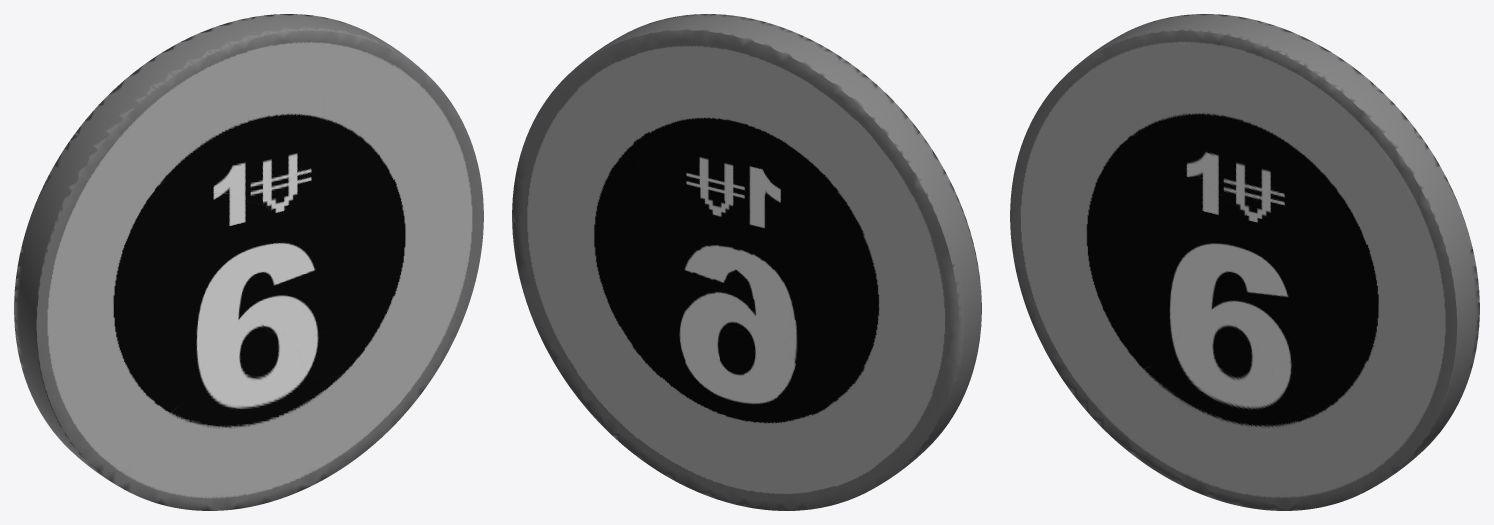
The picture shows the model from 3 angles, left to right: view 1: azimuth 30°, elevation 25°; view 2: azimuth 150°, elevation 25°; view 3: azimuth 330°, elevation 25°; orthographic projection.
Parts seen in each view (by area): view 1: node_id27; view 2: node_id27; view 3: node_id27.
Part boxes in pixels (<box>): node_id27: <box>14,14,483,510</box>; node_id27: <box>512,14,981,510</box>; node_id27: <box>1010,14,1479,510</box>.
Size of the model in its own units: 0.512 by 0.512 by 0.0447.
Materials: 1 (1 with a texture image).
